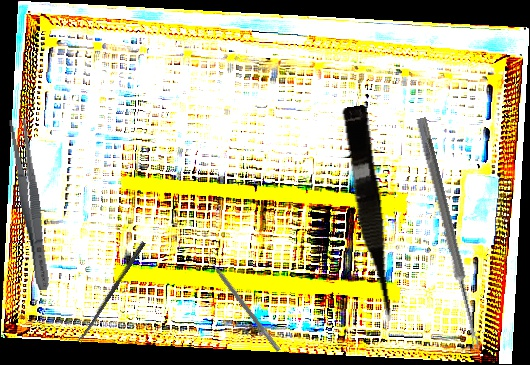Dressing Forceps: (5, 117, 56, 292)
Micro Scissor: (336, 104, 401, 324)
Spatula Surgical: (203, 251, 285, 353)
Surgical Spoon: (414, 117, 484, 351), (76, 240, 146, 345)
